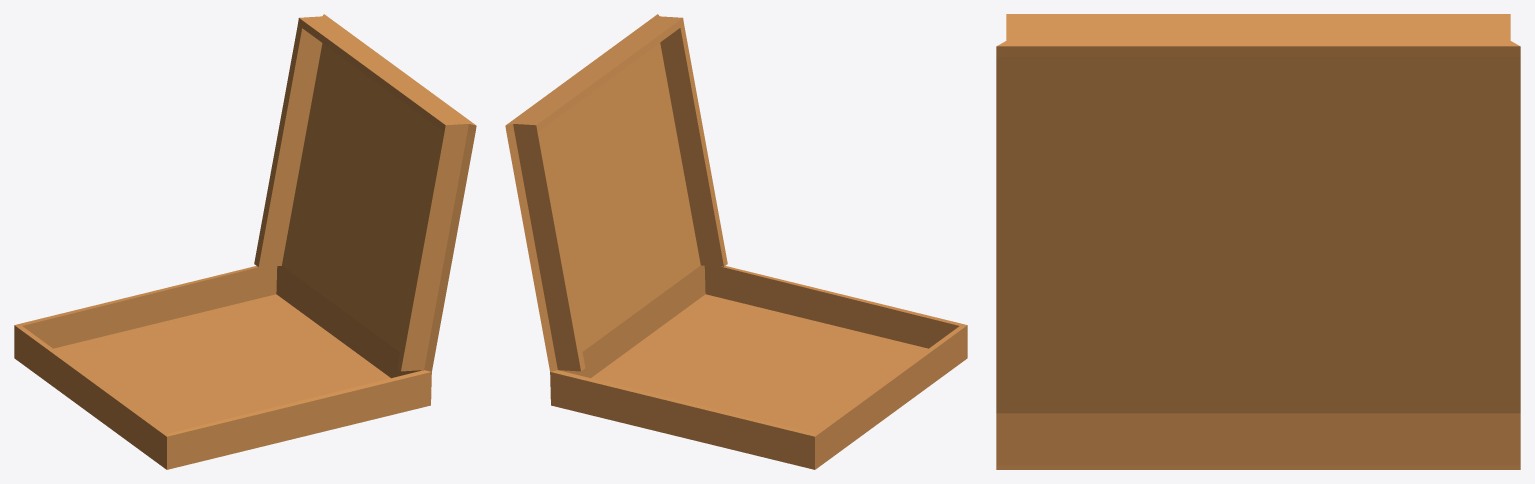
Rendered from PizzaBox.fbx.
3 views of the same model, side by side, from view 1: azimuth 30°, elevation 25°; view 2: azimuth 150°, elevation 25°; view 3: azimuth 270°, elevation 25° (orthographic). The views are drawn at different scales.
Visible parts, largest first — view 1: Plane.502; view 2: Plane.502; view 3: Plane.502.
Boxes of the visible parts, x1=… form: Plane.502: x1=14, y1=14, x2=476, y2=469; Plane.502: x1=505, y1=14, x2=967, y2=469; Plane.502: x1=996, y1=14, x2=1520, y2=469.
Size of the model in its own units: 91.53 by 77.33 by 78.06.
1 material, 1 textured.
